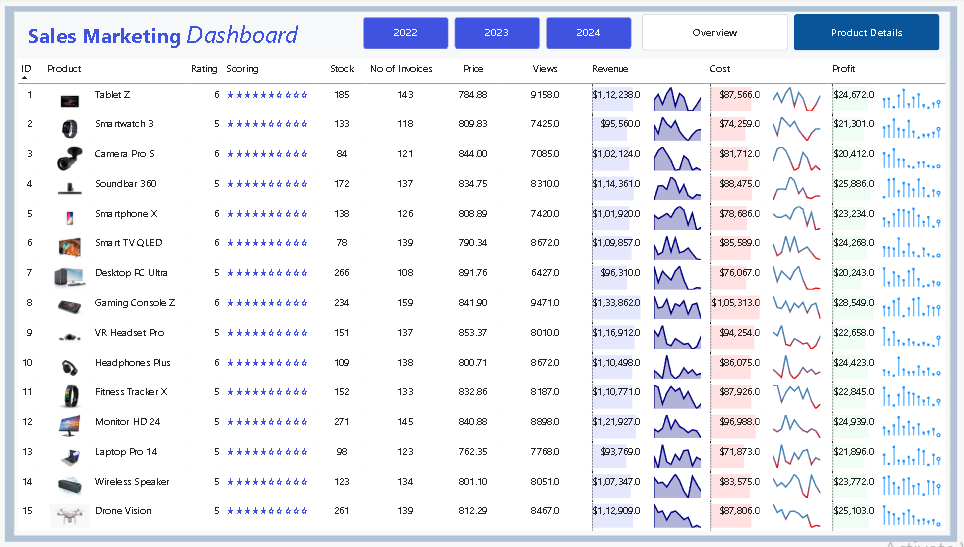

What the dashboard file says about the page in this screenshot:
{"tool":"powerbi","page":{"name":"Product Details","canvas":[1300,750],"ordinal":1},"visuals":[{"type":"tableEx","fields":{"Values":["dimProduct.Product ID","dimProduct.Img","dimProduct.Product","All Measures.Avg Rating","All Measures.Scoring","dimProduct.Stock Quantity","All Measures.No of Invoices","Avg(factSalesData.Sales Amount (USD))","All Measures.Views","All Measures.Revenue","All Measures.Revenue Sparkline","All Measures.Cost"]},"box":[25.6,82.8,1248.5,641.6],"z":0},{"type":"advancedSlicerVisual","fields":{"Values":["Calendar.Year"]},"box":[490,27.1,362,43.7],"z":1000},{"type":"textbox","box":[40.7,25.6,420.2,45.2],"z":2000},{"type":"pageNavigator","box":[866,22.6,400.6,49.7],"z":3000}]}

Visuals, with their boxes in screenshot pixels (x1, y1, x2, y2), scaled from the page's 1300x750 canvas onto the 964x547 screenshot:
tableEx - dimProduct.Product ID x dimProduct.Img: 19 60 945 528
advancedSlicerVisual - Calendar.Year: 363 20 632 52
textbox: 30 19 342 52
pageNavigator: 642 16 939 53
